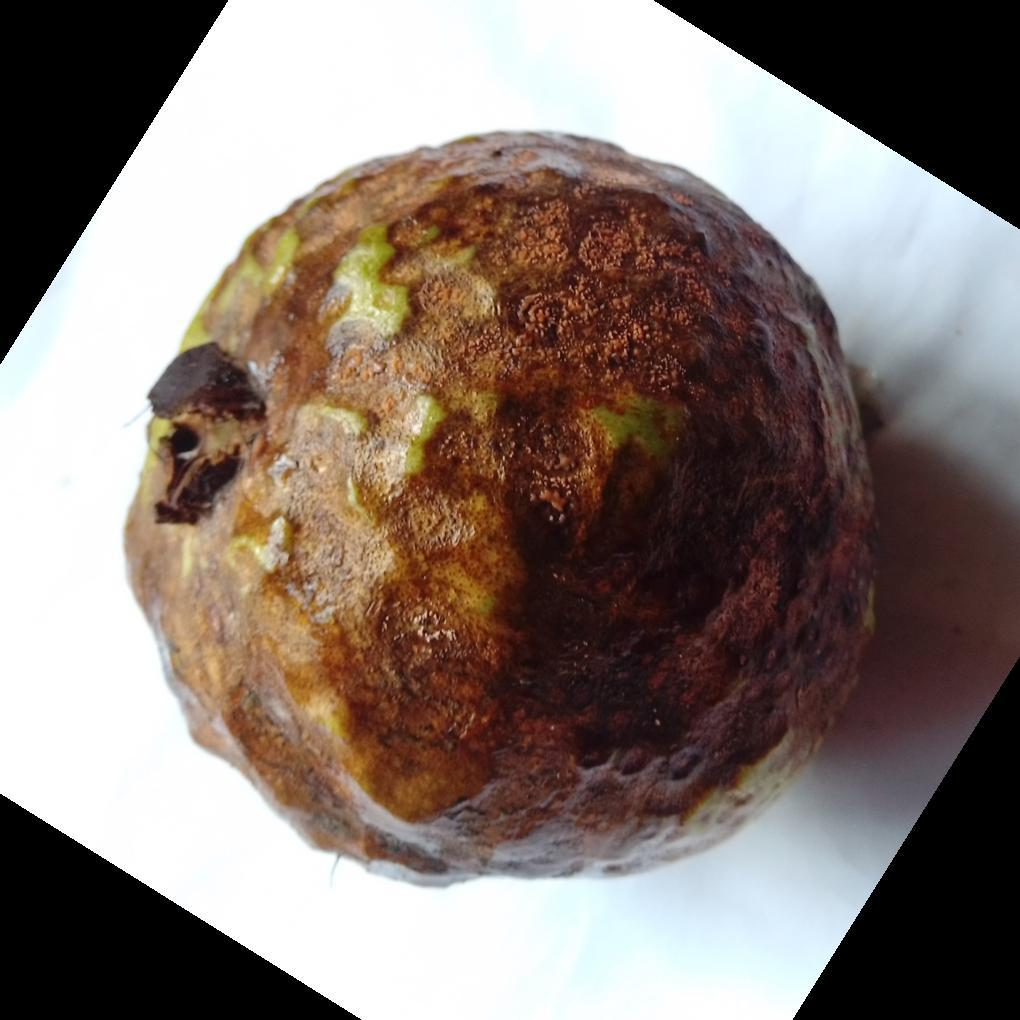FreshOrange: (122, 132, 880, 893)
